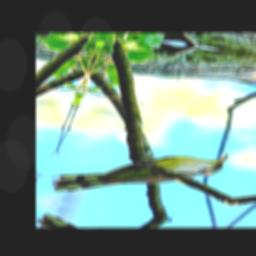Cuckoo: (47, 131, 229, 213)
